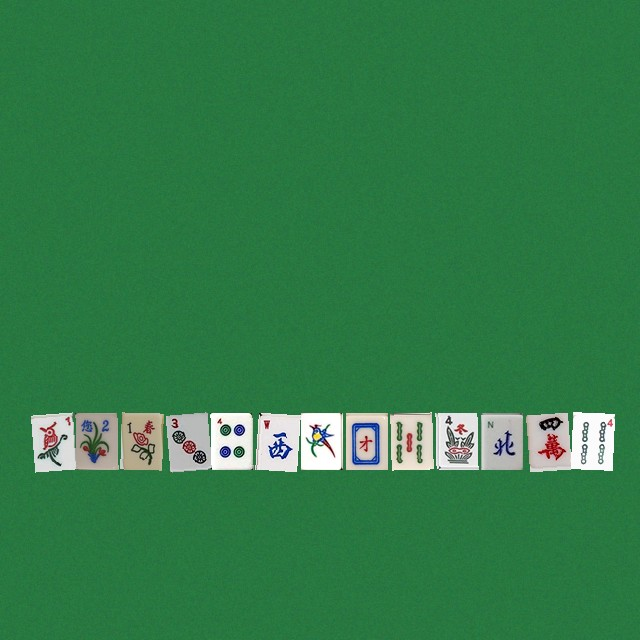tile: (30, 412, 72, 469), (75, 412, 117, 469), (120, 412, 162, 469), (165, 412, 207, 469), (210, 412, 252, 469), (255, 412, 297, 469), (300, 412, 342, 469), (345, 412, 387, 469), (390, 412, 432, 469), (435, 412, 477, 469), (480, 412, 522, 469), (525, 412, 567, 469), (570, 412, 612, 469)
